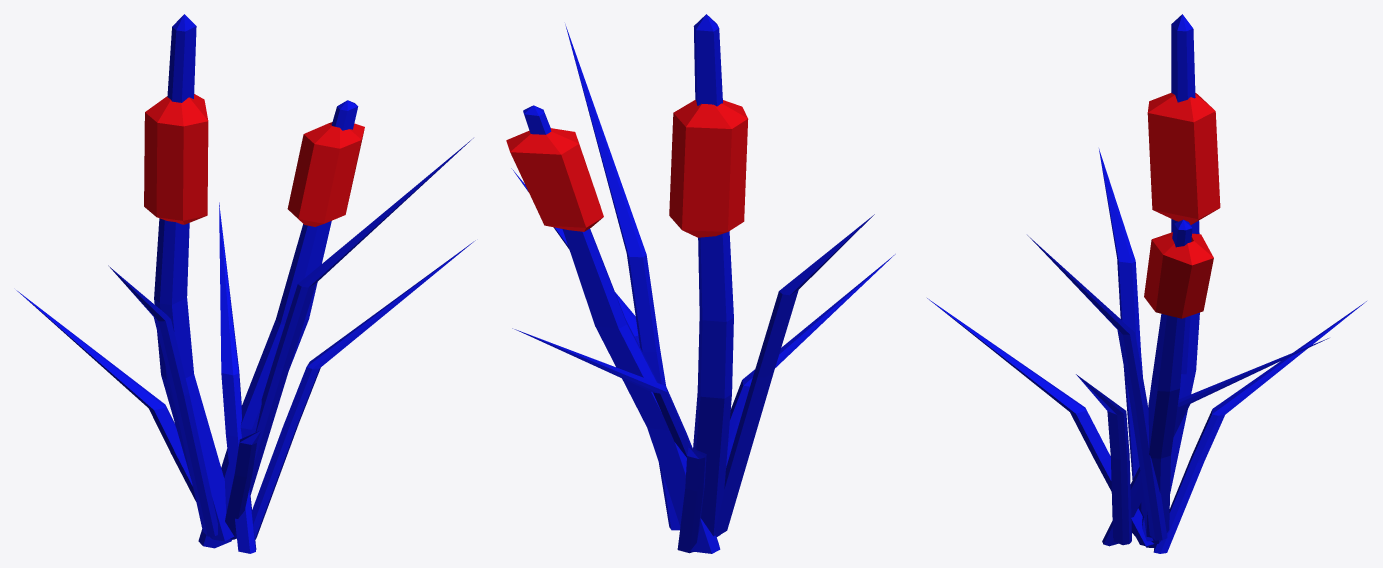
File: SM_Reed5.fbx
3 renders of one model, left to right at view 1: azimuth 30°, elevation 25°; view 2: azimuth 150°, elevation 25°; view 3: azimuth 270°, elevation 25°, orthographic. The views are drawn at different scales.
Parts seen in each view (by area): view 1: SM_Reed5; view 2: SM_Reed5; view 3: SM_Reed5.
Boxes of the visible parts, x1=… form: SM_Reed5: x1=16, y1=14, x2=475, y2=553; SM_Reed5: x1=506, y1=14, x2=895, y2=553; SM_Reed5: x1=927, y1=14, x2=1366, y2=553.
Size of the model in its own units: 40.43 by 56.48 by 43.51.
